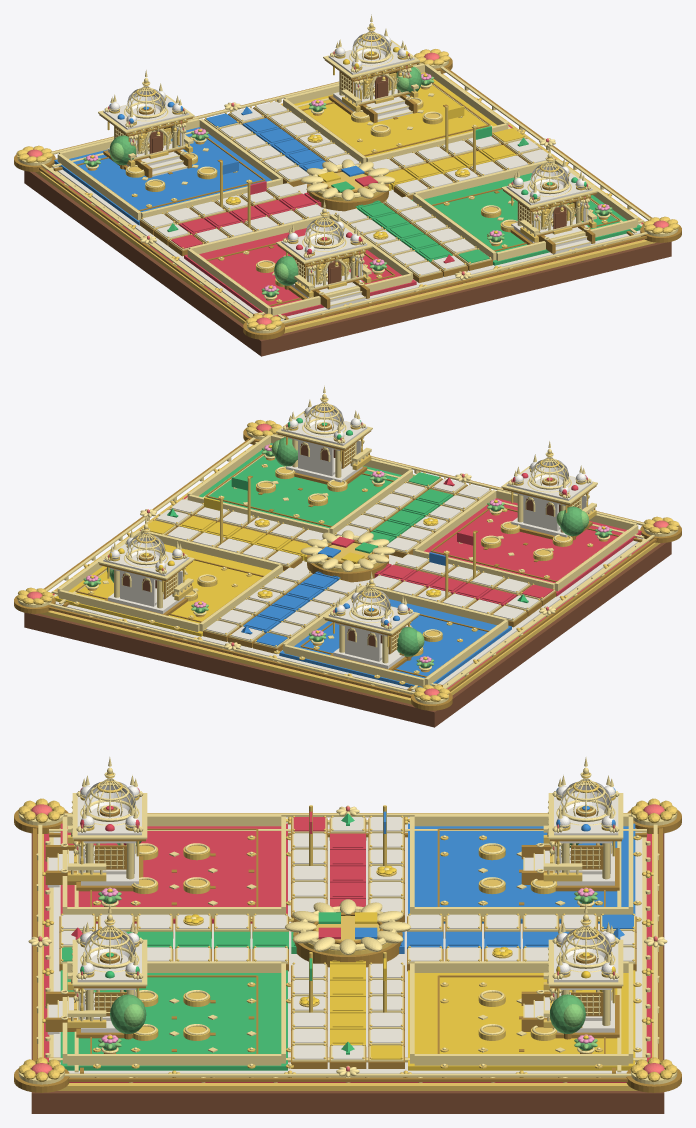
Rendered from Royal_India_Final_Ludo_Board.glb.
The picture shows the model from 3 angles, top to bottom: view 1: azimuth 30°, elevation 25°; view 2: azimuth 150°, elevation 25°; view 3: azimuth 270°, elevation 25°; orthographic projection. The views are drawn at different scales.
Visible parts, largest first — view 1: Batch_gold_light, Batch_ivory, Batch_gold_dark, Batch_gold, Batch_dark, Batch_blue, Batch_yellow, Batch_red, Batch_green, Batch_white, Batch_leaf, Batch_leaf2 (+2 smaller); view 2: Batch_gold_light, Batch_ivory, Batch_dark, Batch_gold_dark, Batch_gold, Batch_red, Batch_green, Batch_blue, Batch_yellow, Batch_white, Batch_leaf, Batch_leaf2 (+2 smaller); view 3: Batch_gold_light, Batch_ivory, Batch_gold_dark, Batch_gold, Batch_red, Batch_yellow, Batch_dark, Batch_green, Batch_blue, Batch_white, Batch_leaf, Batch_leaf2 (+2 smaller).
Part boxes in pixels (x1=…): Batch_gold_light: x1=17, y1=14, x2=678, y2=333; Batch_ivory: x1=52, y1=42, x2=641, y2=320; Batch_gold_dark: x1=14, y1=53, x2=681, y2=339; Batch_gold: x1=16, y1=27, x2=679, y2=333; Batch_dark: x1=24, y1=75, x2=671, y2=356; Batch_blue: x1=54, y1=102, x2=364, y2=225; Batch_yellow: x1=90, y1=47, x2=605, y2=288; Batch_red: x1=46, y1=124, x2=644, y2=326; Batch_green: x1=167, y1=126, x2=641, y2=265; Batch_white: x1=109, y1=31, x2=585, y2=253; Batch_leaf: x1=86, y1=67, x2=609, y2=297; Batch_leaf2: x1=83, y1=66, x2=612, y2=296; Batch_gold_light: x1=17, y1=385, x2=678, y2=704; Batch_ivory: x1=54, y1=413, x2=643, y2=691; Batch_dark: x1=24, y1=443, x2=671, y2=727; Batch_gold_dark: x1=14, y1=424, x2=681, y2=710; Batch_gold: x1=16, y1=398, x2=679, y2=704; Batch_red: x1=51, y1=473, x2=649, y2=697; Batch_green: x1=167, y1=418, x2=528, y2=602; Batch_blue: x1=241, y1=546, x2=511, y2=687; Batch_yellow: x1=55, y1=445, x2=605, y2=659; Batch_white: x1=110, y1=402, x2=586, y2=624; Batch_leaf: x1=86, y1=437, x2=609, y2=668; Batch_leaf2: x1=83, y1=440, x2=612, y2=667; Batch_gold_light: x1=18, y1=757, x2=677, y2=1084; Batch_ivory: x1=47, y1=796, x2=642, y2=1073; Batch_gold_dark: x1=14, y1=808, x2=681, y2=1092; Batch_gold: x1=18, y1=773, x2=677, y2=1090; Batch_red: x1=44, y1=787, x2=651, y2=1082; Batch_yellow: x1=107, y1=865, x2=635, y2=1070; Batch_dark: x1=31, y1=833, x2=664, y2=1113; Batch_green: x1=60, y1=813, x2=354, y2=1070; Batch_blue: x1=355, y1=787, x2=635, y2=953; Batch_white: x1=80, y1=778, x2=615, y2=975; Batch_leaf: x1=101, y1=841, x2=594, y2=1050; Batch_leaf2: x1=98, y1=892, x2=597, y2=1049.
Bounding box in the file's own units: 12.46 × 3.1 × 12.46.
